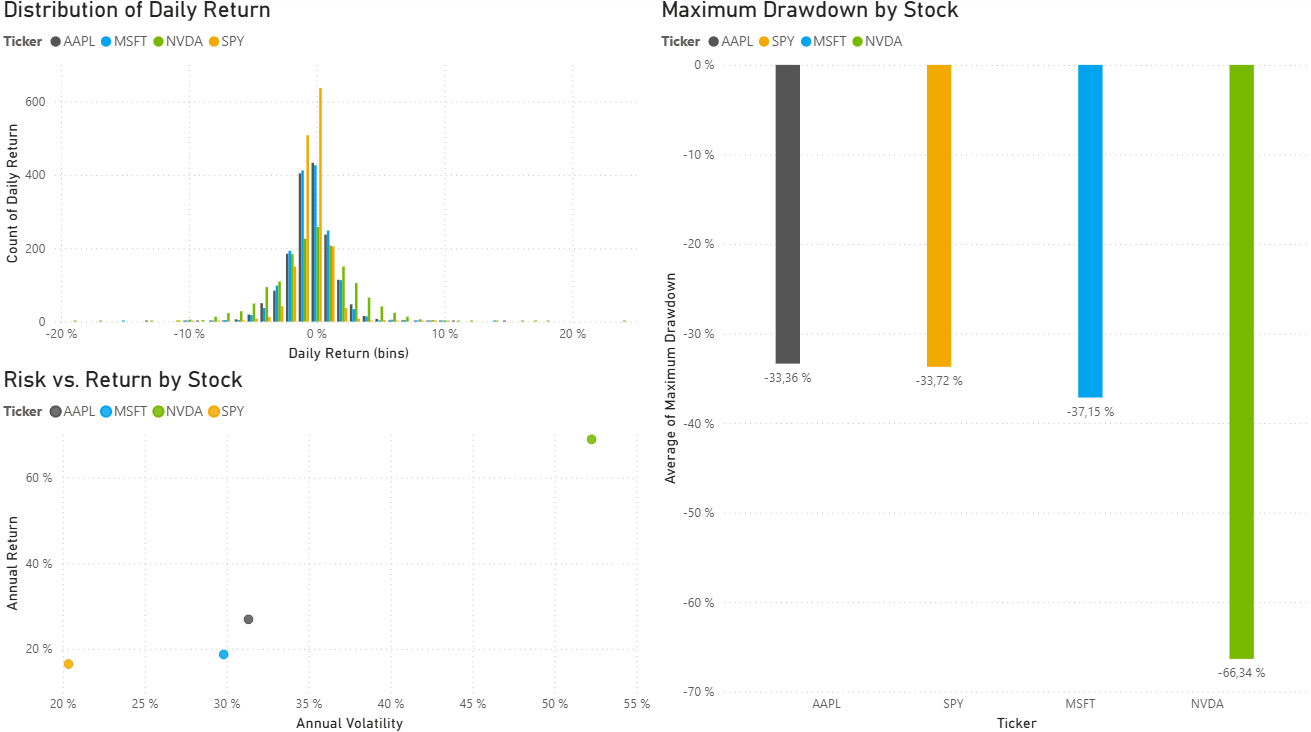

This screenshot's page, from the dashboard's own definition file:
{"tool":"powerbi","page":{"name":"Risk Analysis","canvas":[1280,720],"ordinal":2},"visuals":[{"type":"scatterChart","title":"Risk vs. Return by Stock","fields":{"X":["comparison_metrics.Annual Volatility"],"Y":["comparison_metrics.Annual Return"],"Series":["comparison_metrics.Ticker"]},"box":[0,360,640,360],"z":0},{"type":"clusteredColumnChart","title":"Distribution of Daily Return","fields":{"Category":["historical_prices.Daily Return (bins)"],"Y":["CountNonNull(historical_prices.Daily Return)"],"Series":["comparison_metrics.Ticker"]},"box":[0,0,640,360],"z":1000},{"type":"clusteredColumnChart","title":"Maximum Drawdown by Stock","fields":{"Category":["comparison_metrics.Ticker"],"Y":["Avg(comparison_metrics.Maximum Drawdown)"],"Series":["comparison_metrics.Ticker"]},"box":[640,0,640,720],"z":2000}]}

Visuals, with their boxes in screenshot pixels (x1, y1, x2, y2), scaled from the page's 1280x720 canvas onto the 1311x732 screenshot:
"Risk vs. Return by Stock" scatterChart: pyautogui.locateOnScreen(0, 366, 656, 731)
"Distribution of Daily Return" clusteredColumnChart: pyautogui.locateOnScreen(0, 0, 656, 366)
"Maximum Drawdown by Stock" clusteredColumnChart: pyautogui.locateOnScreen(656, 0, 1310, 731)
